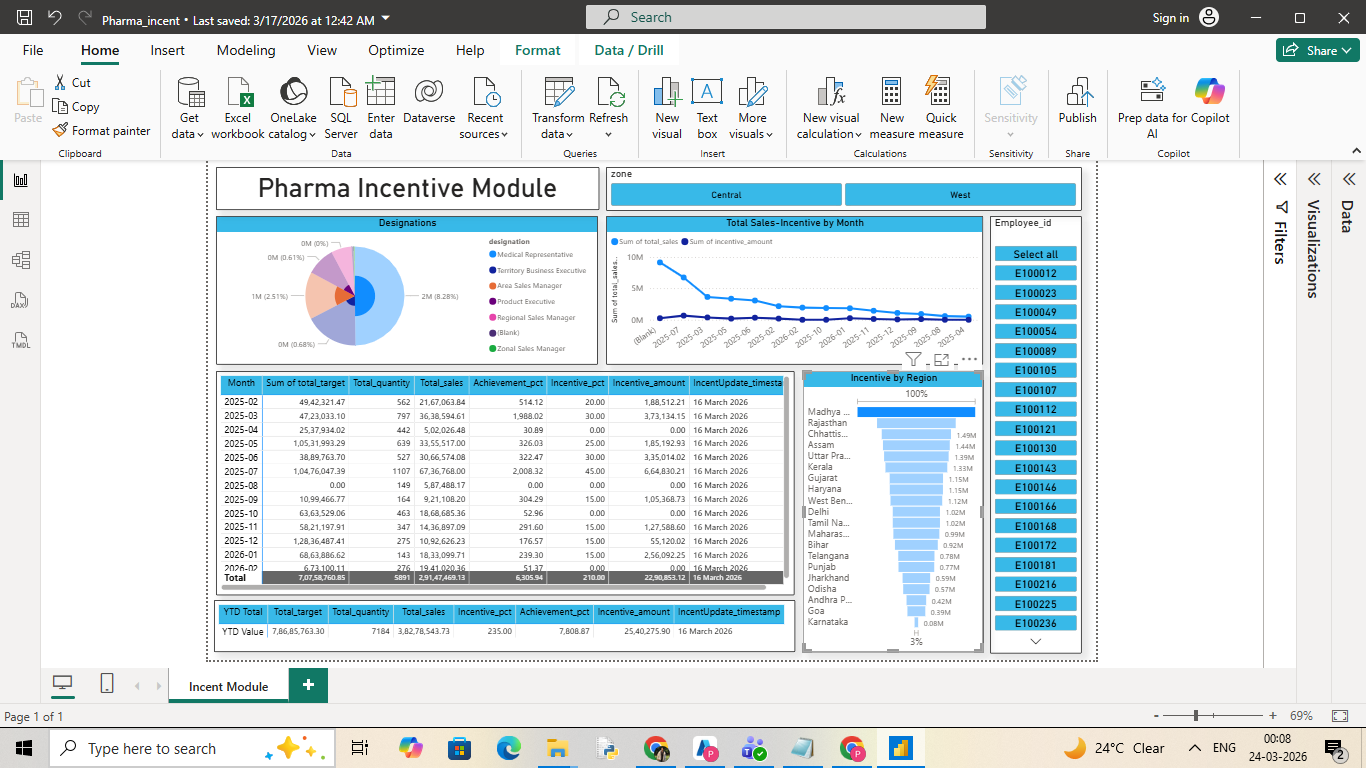

The page's visual inventory and layout, read from the dashboard file:
{"tool":"powerbi","page":{"name":"Incent Module","canvas":[1280,720],"ordinal":0},"visuals":[{"type":"advancedSlicerVisual","fields":{"Values":["Raw.zone"]},"box":[573.3,10,685,63.3],"z":0},{"type":"pivotTable","fields":{"Rows":["Raw.month_key"],"Values":["Sum(Raw.total_target)","Sum(Raw.total_quantity)","Sum(Raw.total_sales)","Sum(Raw.achievement_pct)","Sum(Raw.incentive_pct)","Sum(Raw.incentive_amount)","Min(Raw.incentUpdate_timestamp)"]},"box":[11.7,303.3,833.3,323.3],"z":1000},{"type":"pieChart","title":"Designations","fields":{"Category":["Raw.designation"],"Y":["Sum(Raw.incentive_amount)"]},"box":[11.4,80,550,214.3],"z":2000},{"type":"lineChart","title":"Total Sales-Incentive by Month","fields":{"Category":["Raw.month_key"],"Y":["Sum(Raw.total_sales)","Sum(Raw.incentive_amount)"]},"box":[572.9,80,542.9,214.3],"z":3000},{"type":"pivotTable","fields":{"Rows":["Raw.YTD Total"],"Values":["Sum(Raw.total_target)","Sum(Raw.total_quantity)","Sum(Raw.total_sales)","Sum(Raw.incentive_pct)","Sum(Raw.achievement_pct)","Sum(Raw.incentive_amount)","Min(Raw.incentUpdate_timestamp)"]},"box":[8.3,633.3,836.7,75],"z":4000},{"type":"advancedSlicerVisual","title":"Employee_id","fields":{"Values":["Raw.employee_id"]},"box":[1126,80,132,630],"z":5000},{"type":"textbox","box":[11.7,10,551.7,61.7],"z":6000},{"type":"funnel","title":"Incentive by Region","fields":{"Category":["Raw.region"],"Y":["Sum(Raw.incentive_amount)"]},"box":[856.7,303.3,260,405],"z":7000}]}

Visuals, with their boxes on the page's 1280x720 design canvas (x1, y1, x2, y2). These are canvas units, not pixel positions in the 1366x768 screenshot, which may show the page scaled, cropped or inside an application window:
advancedSlicerVisual - Raw.zone: 573,10,1258,73
pivotTable - Raw.month_key x Sum(Raw.total_target): 12,303,845,627
"Designations" pieChart: 11,80,561,294
"Total Sales-Incentive by Month" lineChart: 573,80,1116,294
pivotTable - Raw.YTD Total x Sum(Raw.total_target): 8,633,845,708
"Employee_id" advancedSlicerVisual: 1126,80,1258,710
textbox: 12,10,563,72
"Incentive by Region" funnel: 857,303,1117,708
